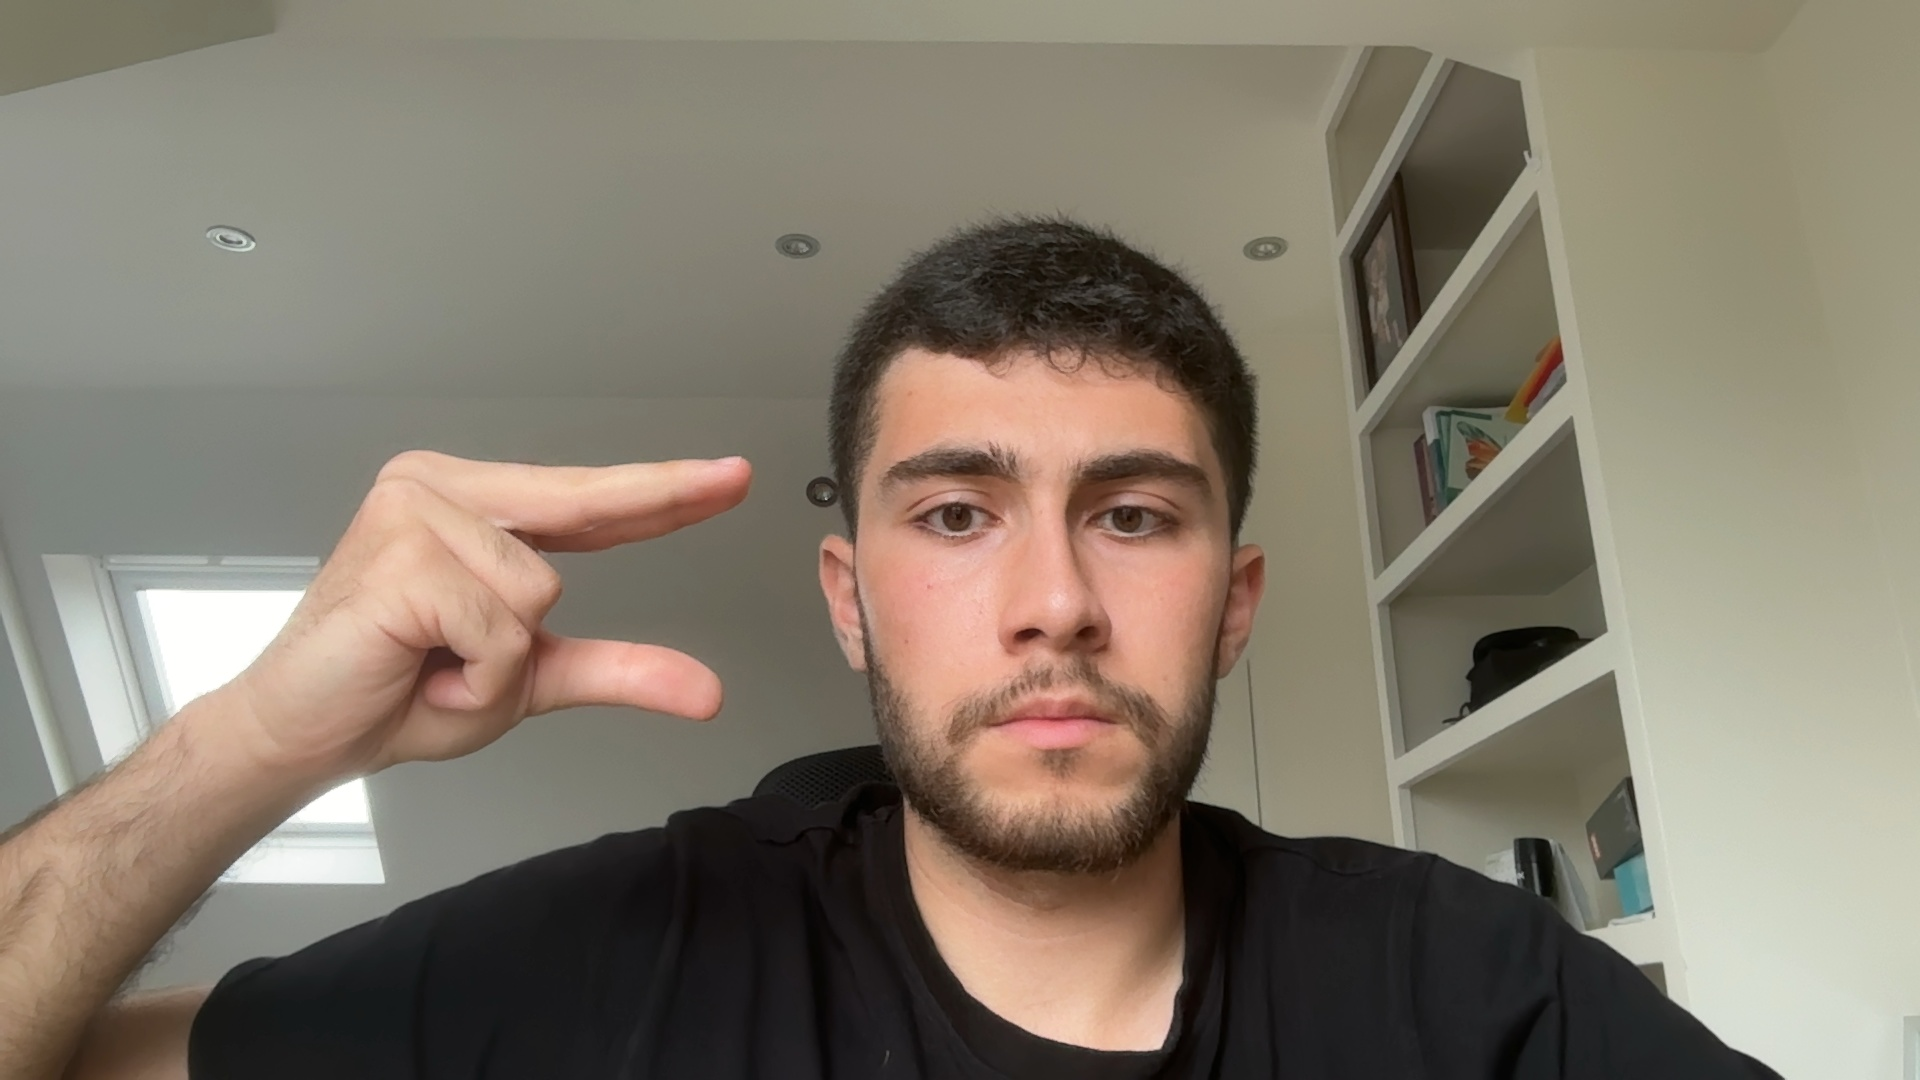no: (223, 436, 766, 790)
